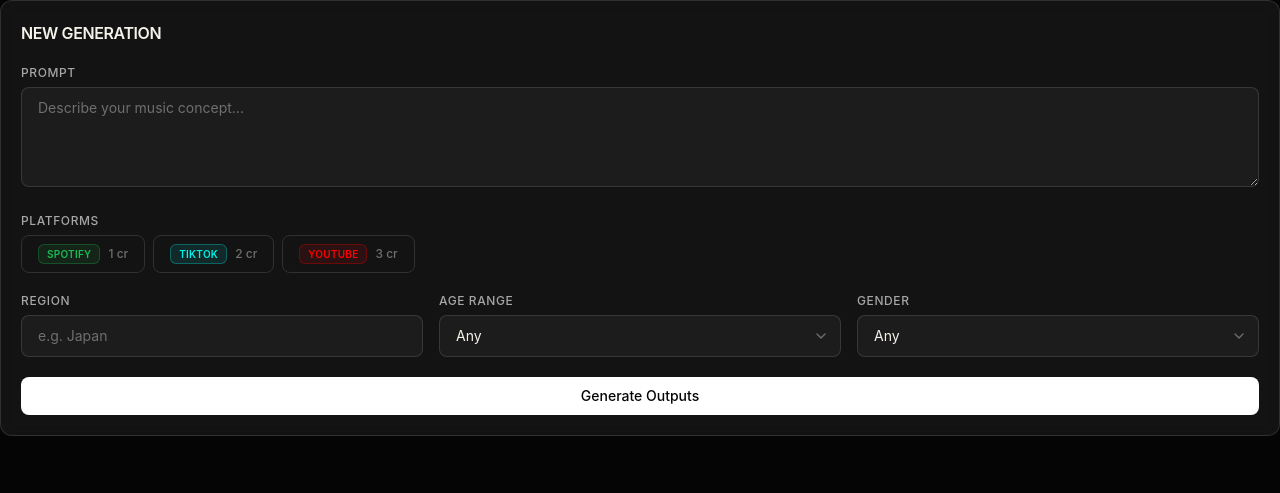
it: GenerationForm › shows validation error when no platform is selected
Type "A chill lofi beat for studying" into the text box with placeholder "Describe your music concept..." at (640, 137), box [21, 87, 1259, 187]
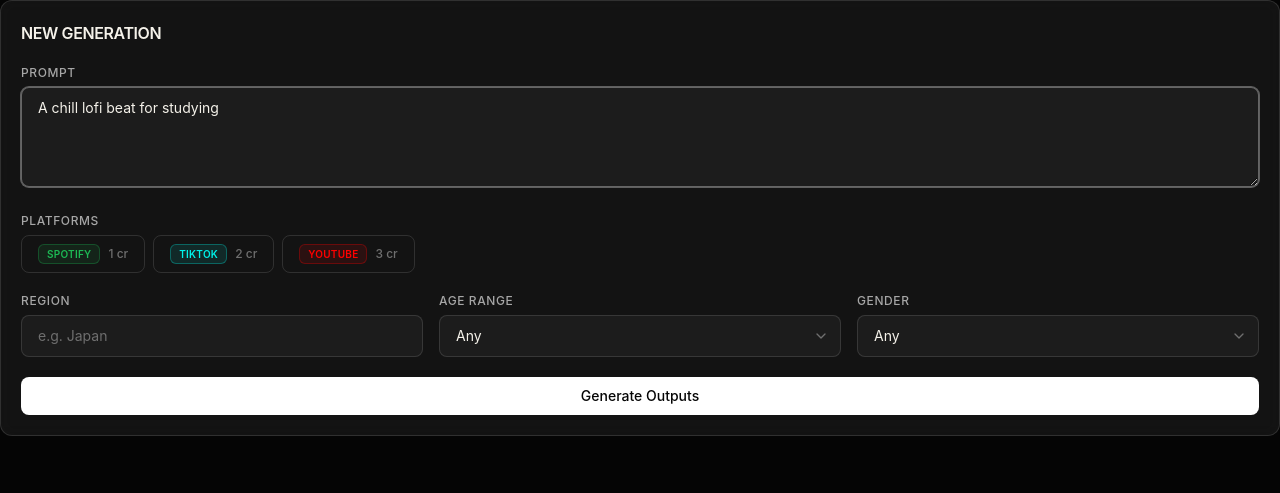
Click the button "Generate Outputs" at (640, 396), box [21, 377, 1259, 415]
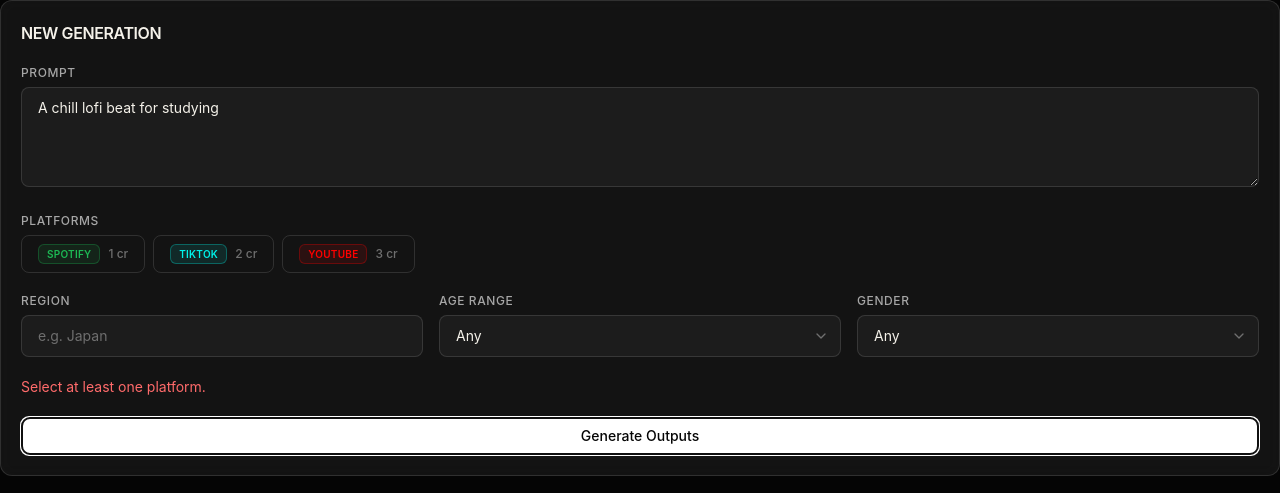
Result: the text "Select at least one platform." is shown at [21, 378, 206, 395]
